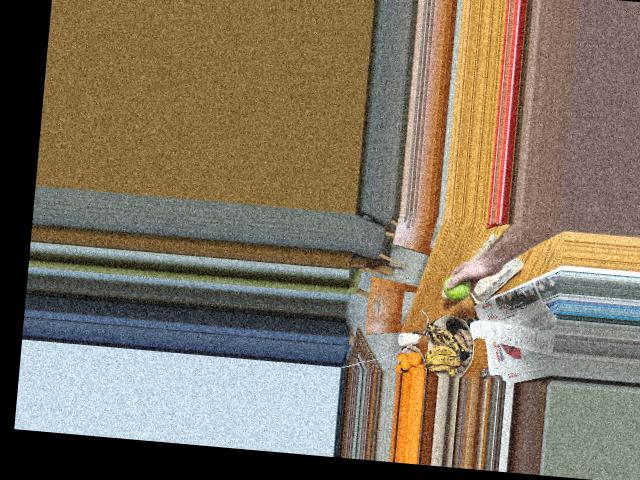apple: (440, 270, 474, 303)
